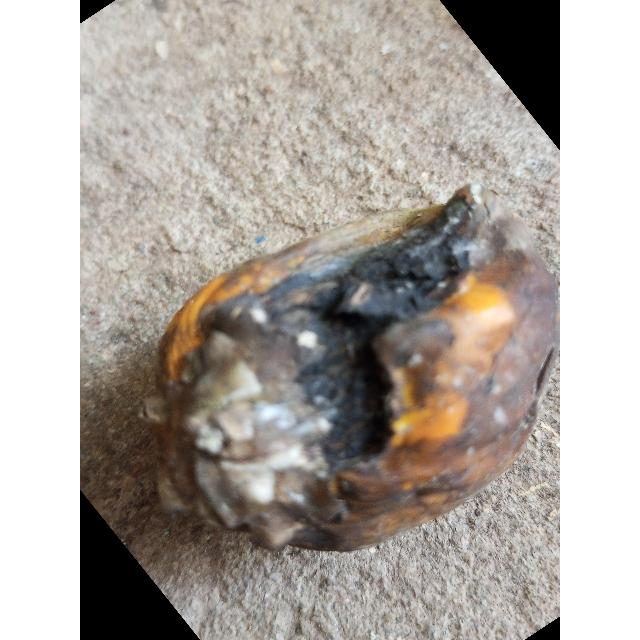damaged: (143, 184, 557, 550)
